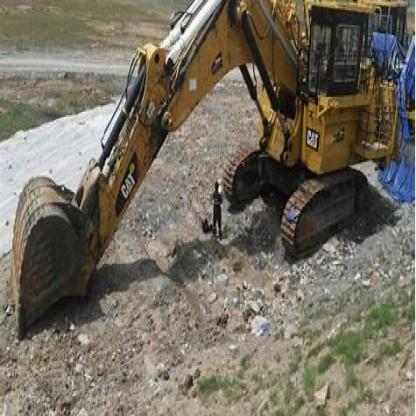road_sign: (62, 2, 126, 113), (6, 140, 67, 249), (66, 144, 128, 249), (125, 142, 131, 249), (127, 0, 130, 114)
